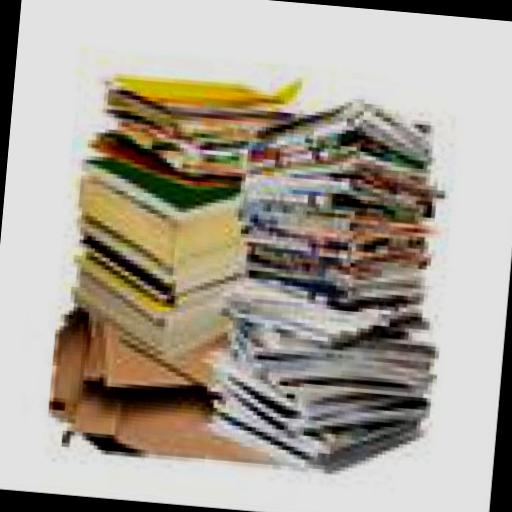cardboard: (42, 303, 294, 467), (76, 304, 226, 394)
metal: (218, 338, 428, 432), (212, 269, 434, 355), (199, 384, 416, 470), (222, 310, 434, 395), (68, 171, 246, 266), (249, 88, 434, 170), (236, 198, 424, 278), (72, 264, 238, 354), (67, 152, 244, 226), (98, 86, 293, 151), (72, 240, 244, 312), (244, 158, 436, 220), (83, 121, 254, 187), (245, 247, 424, 307), (99, 110, 247, 179), (83, 217, 254, 276), (106, 66, 300, 111), (198, 340, 296, 412)
